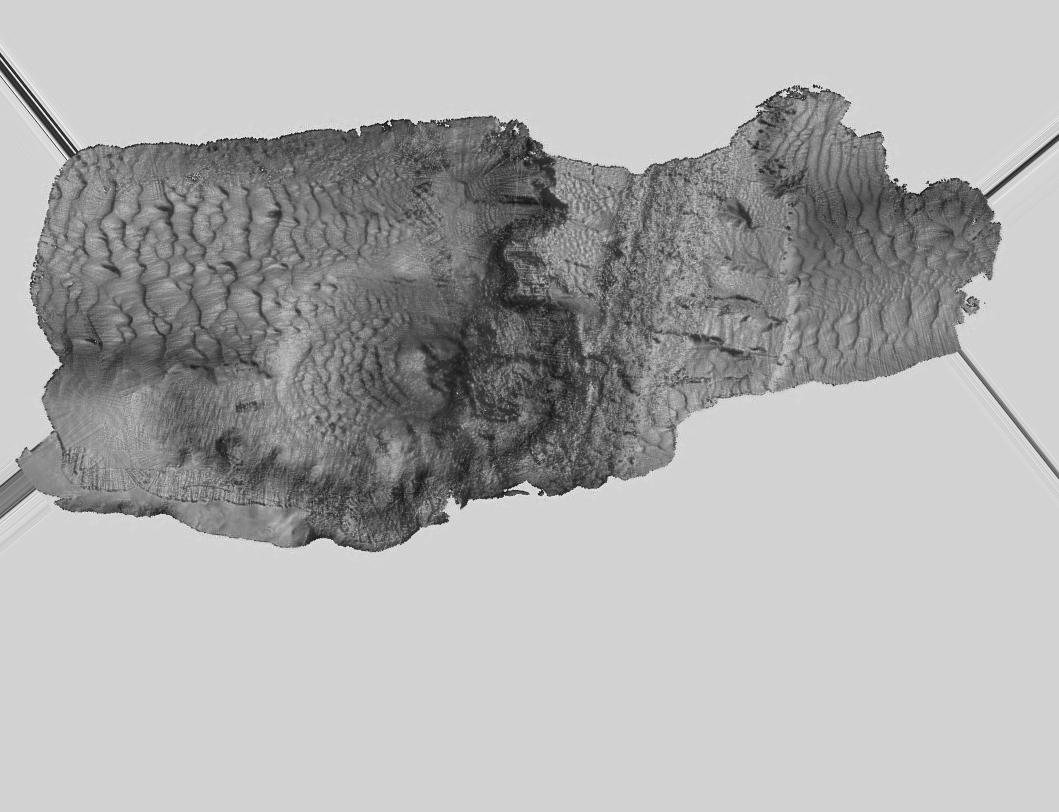Dune: (44, 180, 453, 320), (805, 160, 906, 353), (50, 316, 304, 375), (306, 331, 379, 435)
Scarp: (49, 469, 648, 613)
Scour pit: (377, 325, 497, 432)
Submerged dike: (586, 161, 705, 490)
